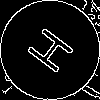H: (25, 25, 84, 81)
